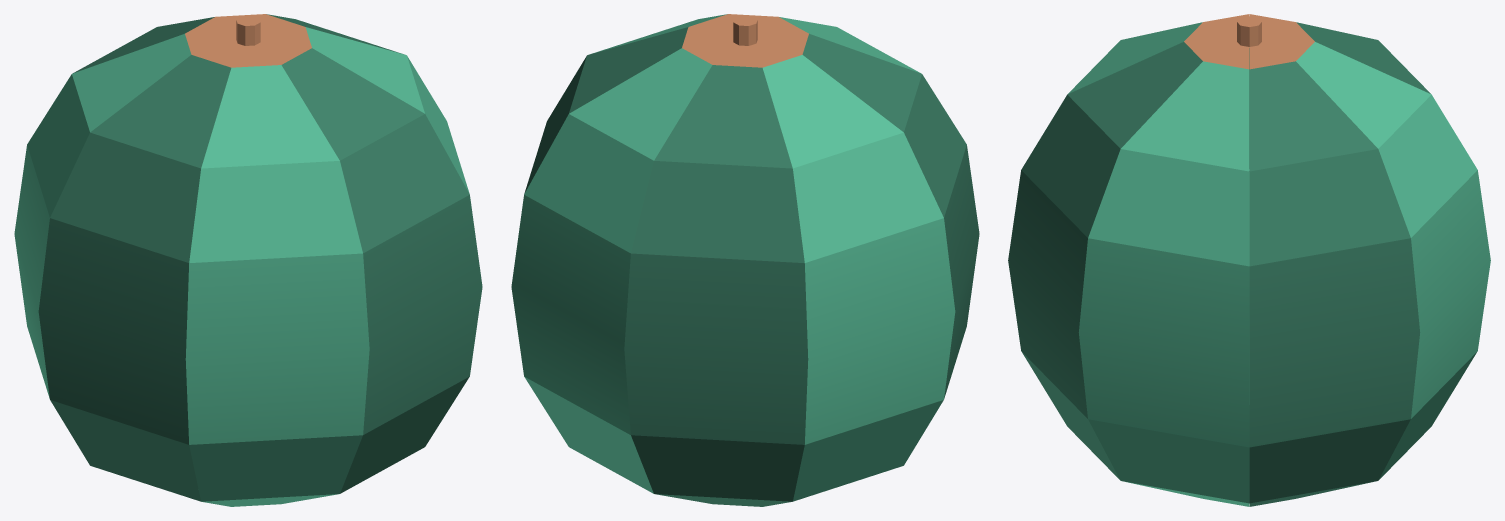
File: watermelon.fbx
3 renders of one model, left to right at view 1: azimuth 30°, elevation 25°; view 2: azimuth 150°, elevation 25°; view 3: azimuth 270°, elevation 25°, orthographic.
Parts seen in each view (by area): view 1: slice (×7); view 2: slice (×7); view 3: slice (×6).
Boxes of the visible parts, bbox=[...] form: slice (×7): bbox=[14, 14, 482, 506]; slice (×7): bbox=[511, 14, 979, 506]; slice (×6): bbox=[1008, 18, 1490, 506].
Size of the model in its own units: 4.55 by 4.76 by 4.55.
